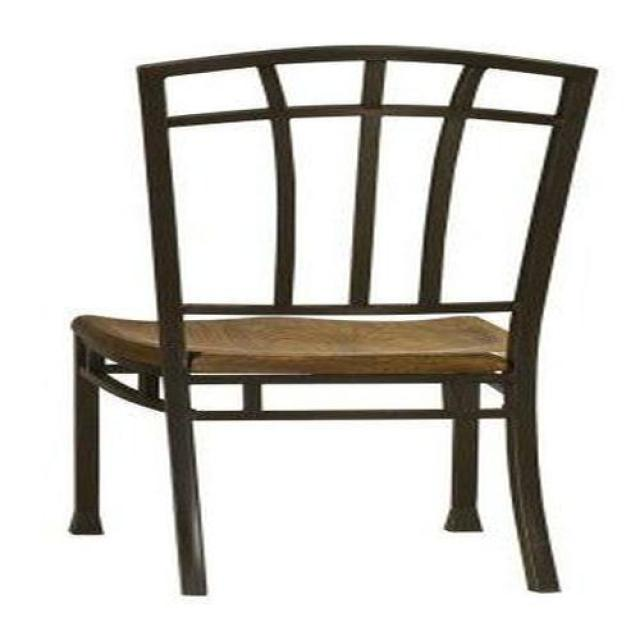chair: (67, 46, 595, 600)
